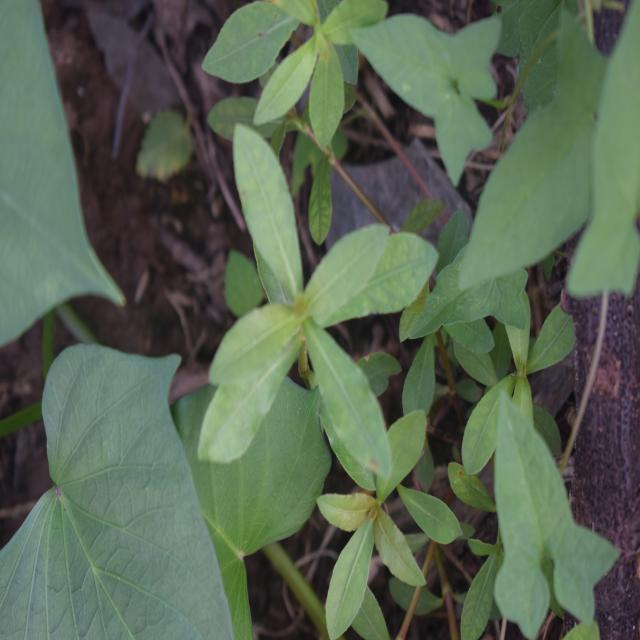Alligatorweed: (186, 142, 423, 460), (303, 420, 444, 622)
